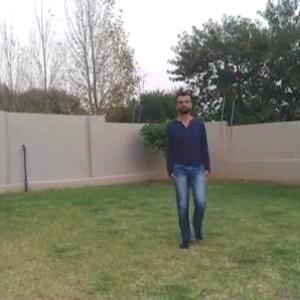follow: (171, 92, 210, 245)
